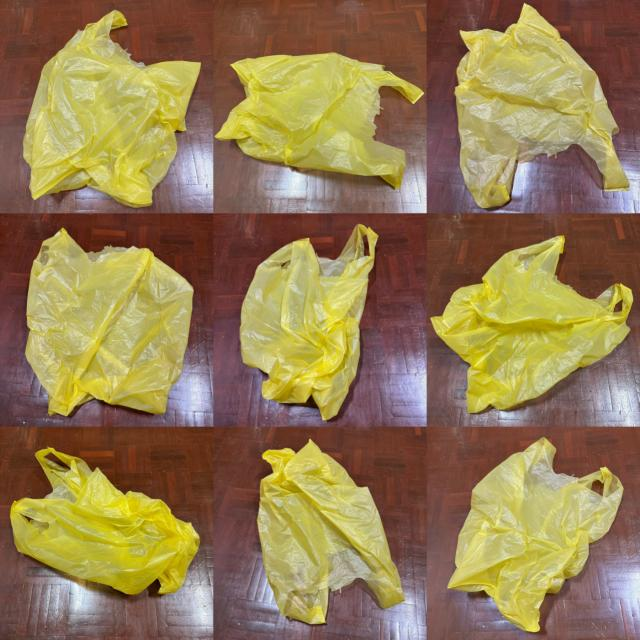Single-layer Plastic: (455, 4, 629, 209), (431, 236, 632, 412), (24, 10, 200, 208), (449, 438, 622, 631), (26, 229, 194, 415), (216, 52, 422, 189), (10, 448, 199, 594), (240, 224, 378, 419), (258, 440, 404, 624)
